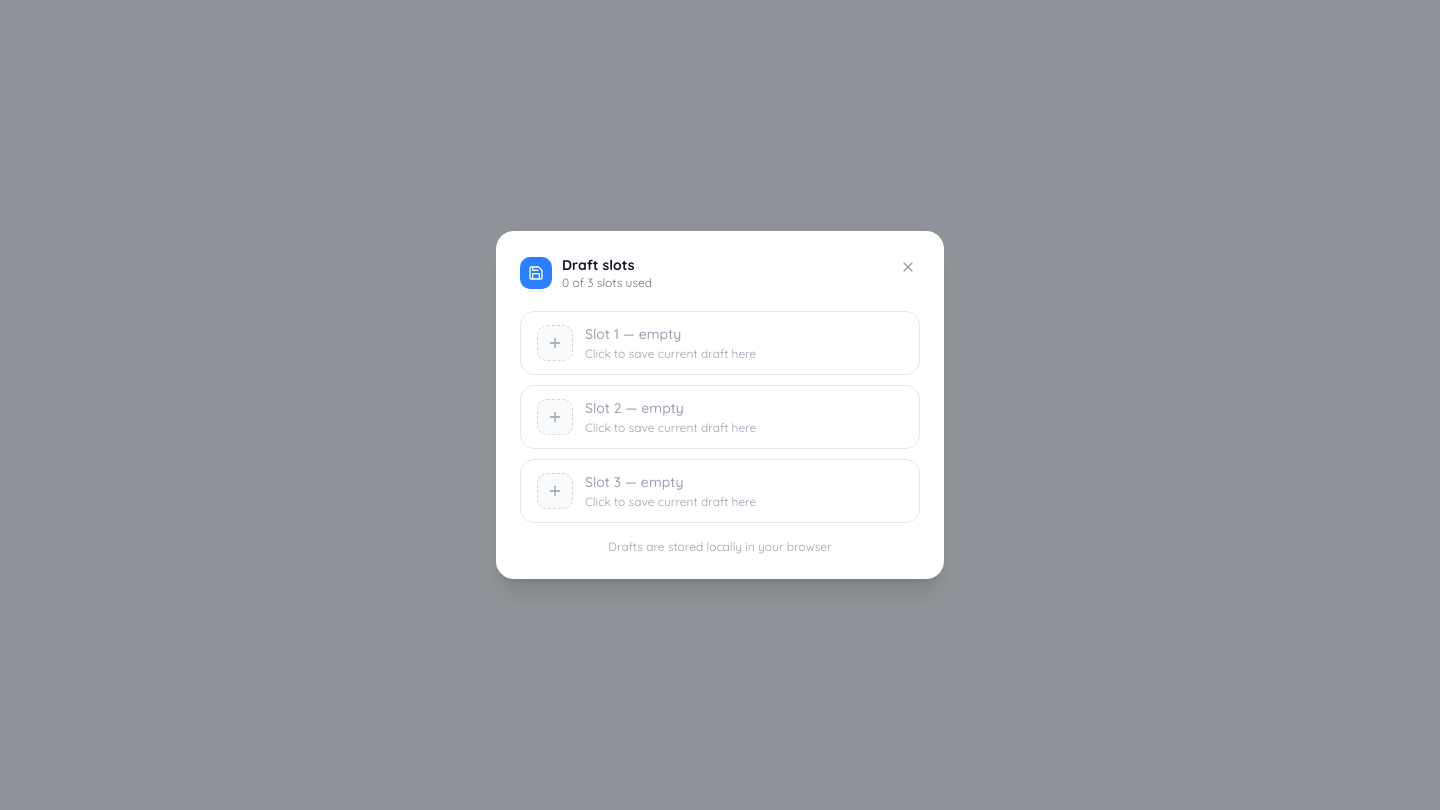
Test case: DraftPopup UI behaviour › FE-63: saves to an empty slot and updates the slot count to 1 of 3
Click the button "Slot 1 — empty Click to save current draft here" at (720, 343), box [521,312,919,374]
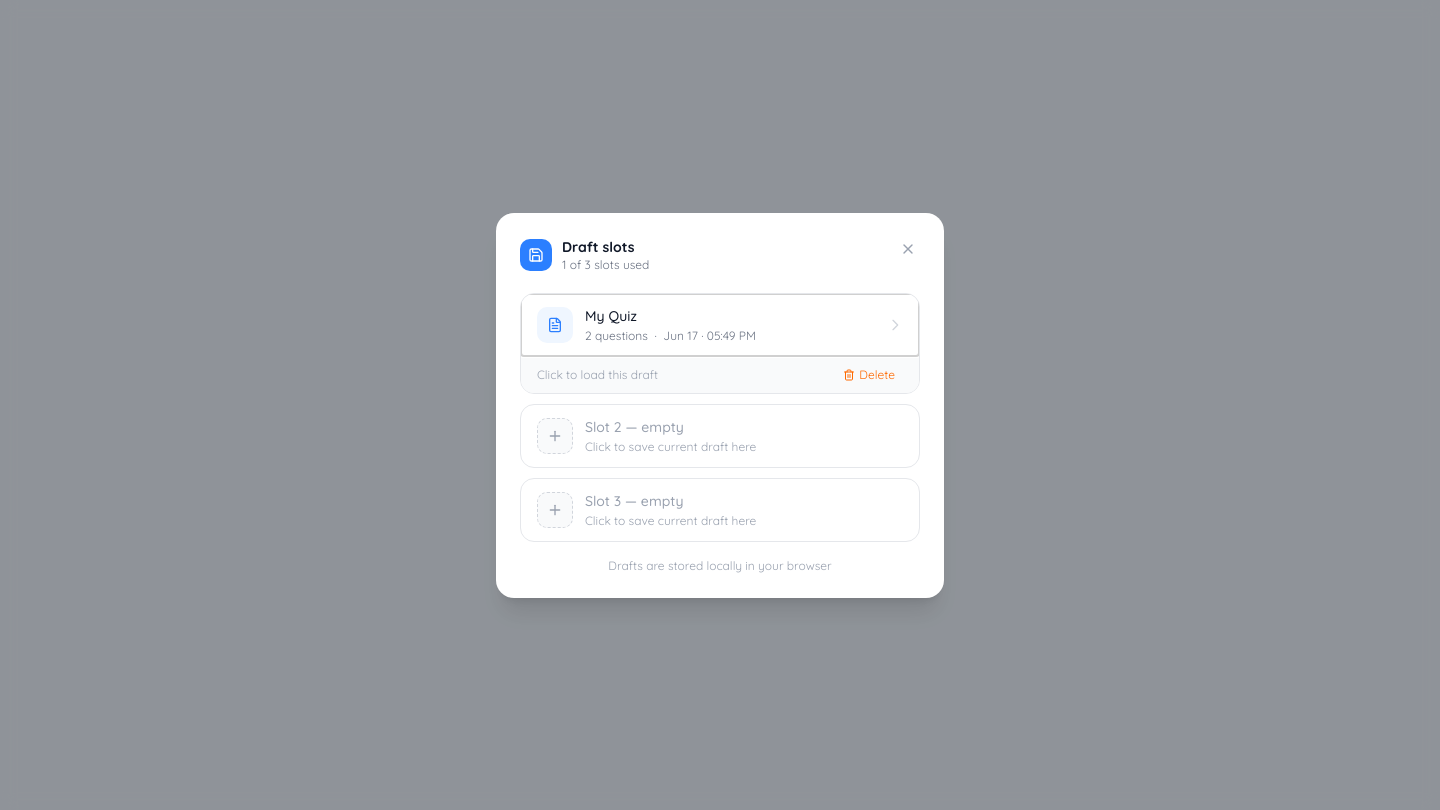
Check: the text "1 of 3 slots used" is shown, box [562,256,649,272]
